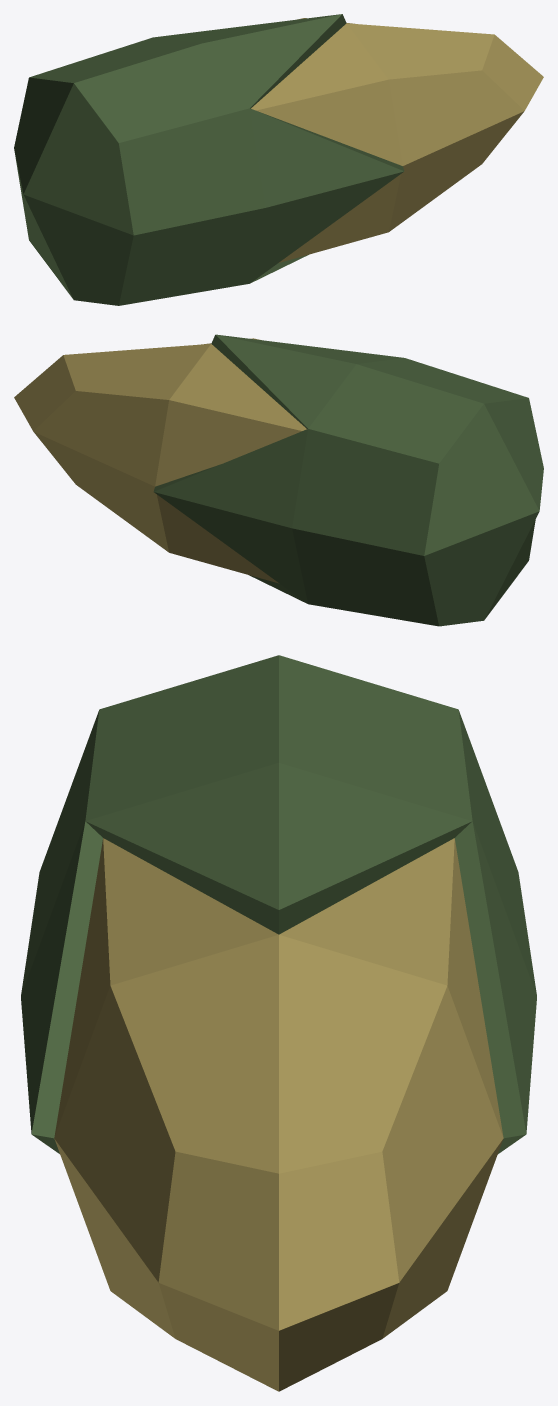
Rendered from Corn_Crop.glb.
3 views of the same model, one above another, from view 1: azimuth 30°, elevation 25°; view 2: azimuth 150°, elevation 25°; view 3: azimuth 270°, elevation 25° (orthographic). The views are drawn at different scales.
Visible parts, largest first — view 1: Corn_Crop_Cube.024; view 2: Corn_Crop_Cube.024; view 3: Corn_Crop_Cube.024.
Boxes of the visible parts, bbox=[...] form: Corn_Crop_Cube.024: bbox=[14, 14, 543, 305]; Corn_Crop_Cube.024: bbox=[14, 334, 543, 626]; Corn_Crop_Cube.024: bbox=[21, 655, 536, 1391].
Bounding box in the file's own units: 0.3482 × 0.1488 × 0.1488.
